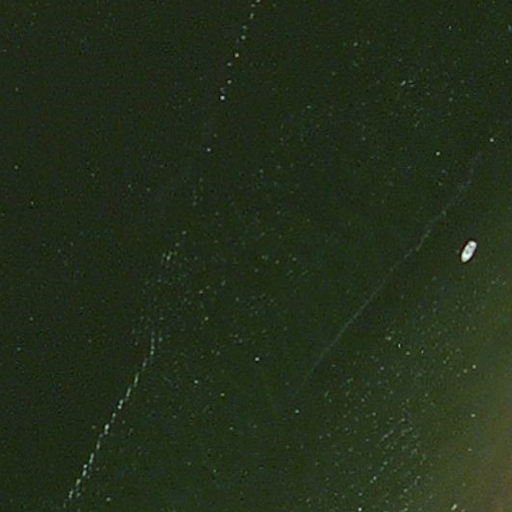ship: (456, 237, 480, 266)
